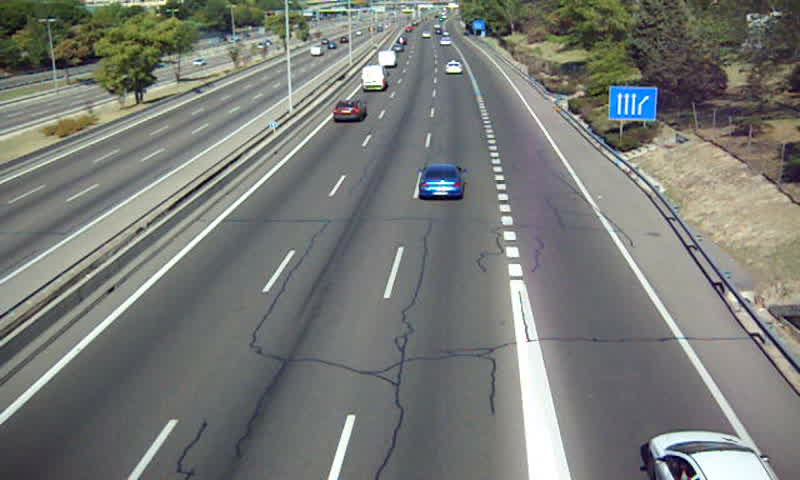car: (418, 162, 465, 199), (332, 98, 368, 121), (445, 62, 464, 75)
van: (360, 64, 391, 90), (378, 49, 396, 68)
